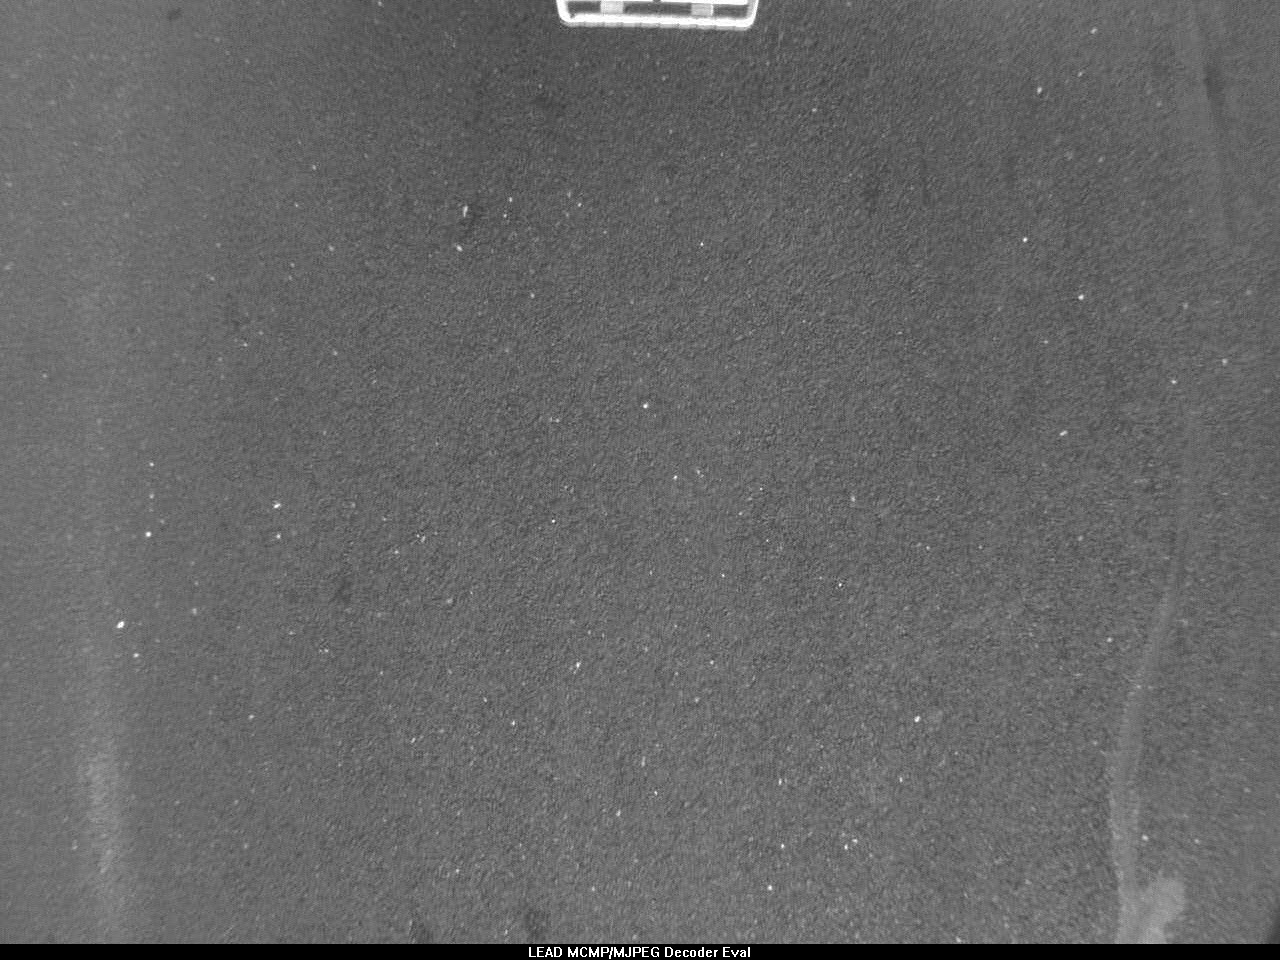sealed: (1094, 528, 1218, 942)
